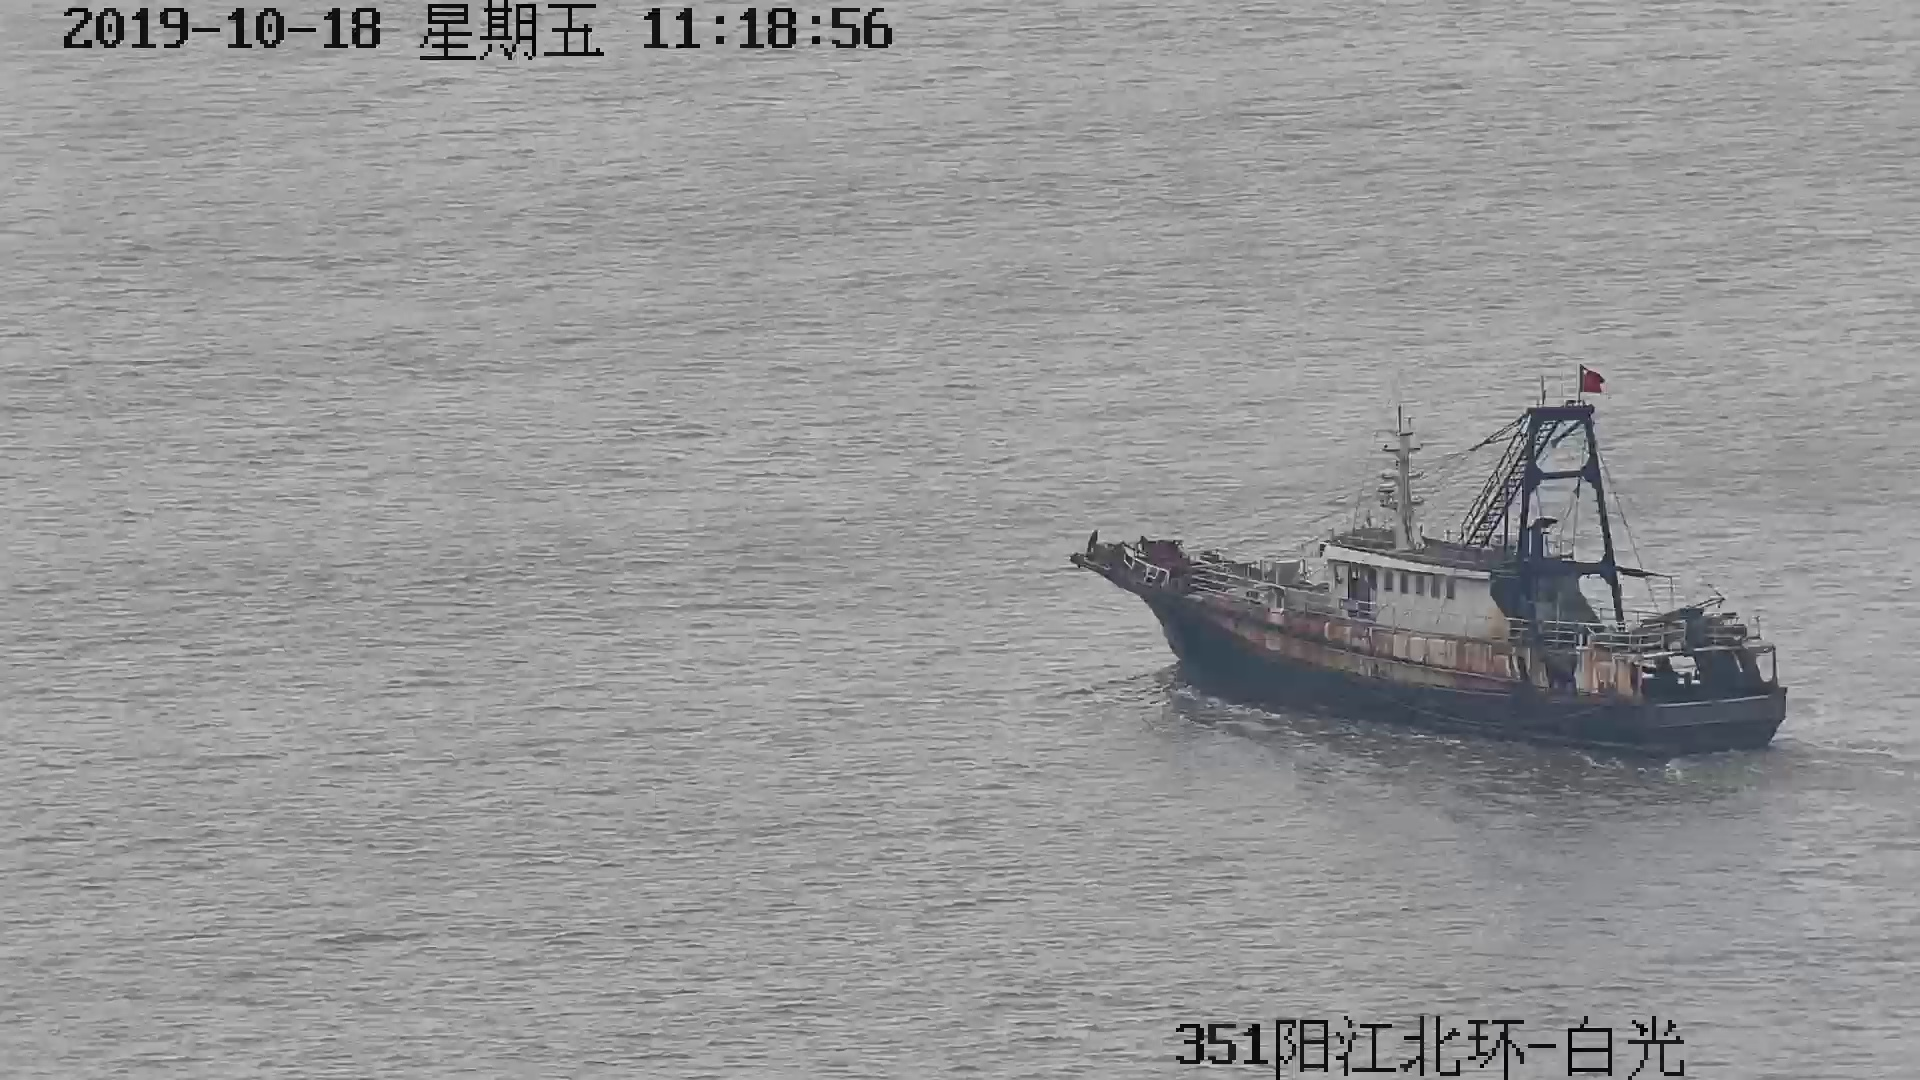ship: (1059, 355, 1797, 761)
